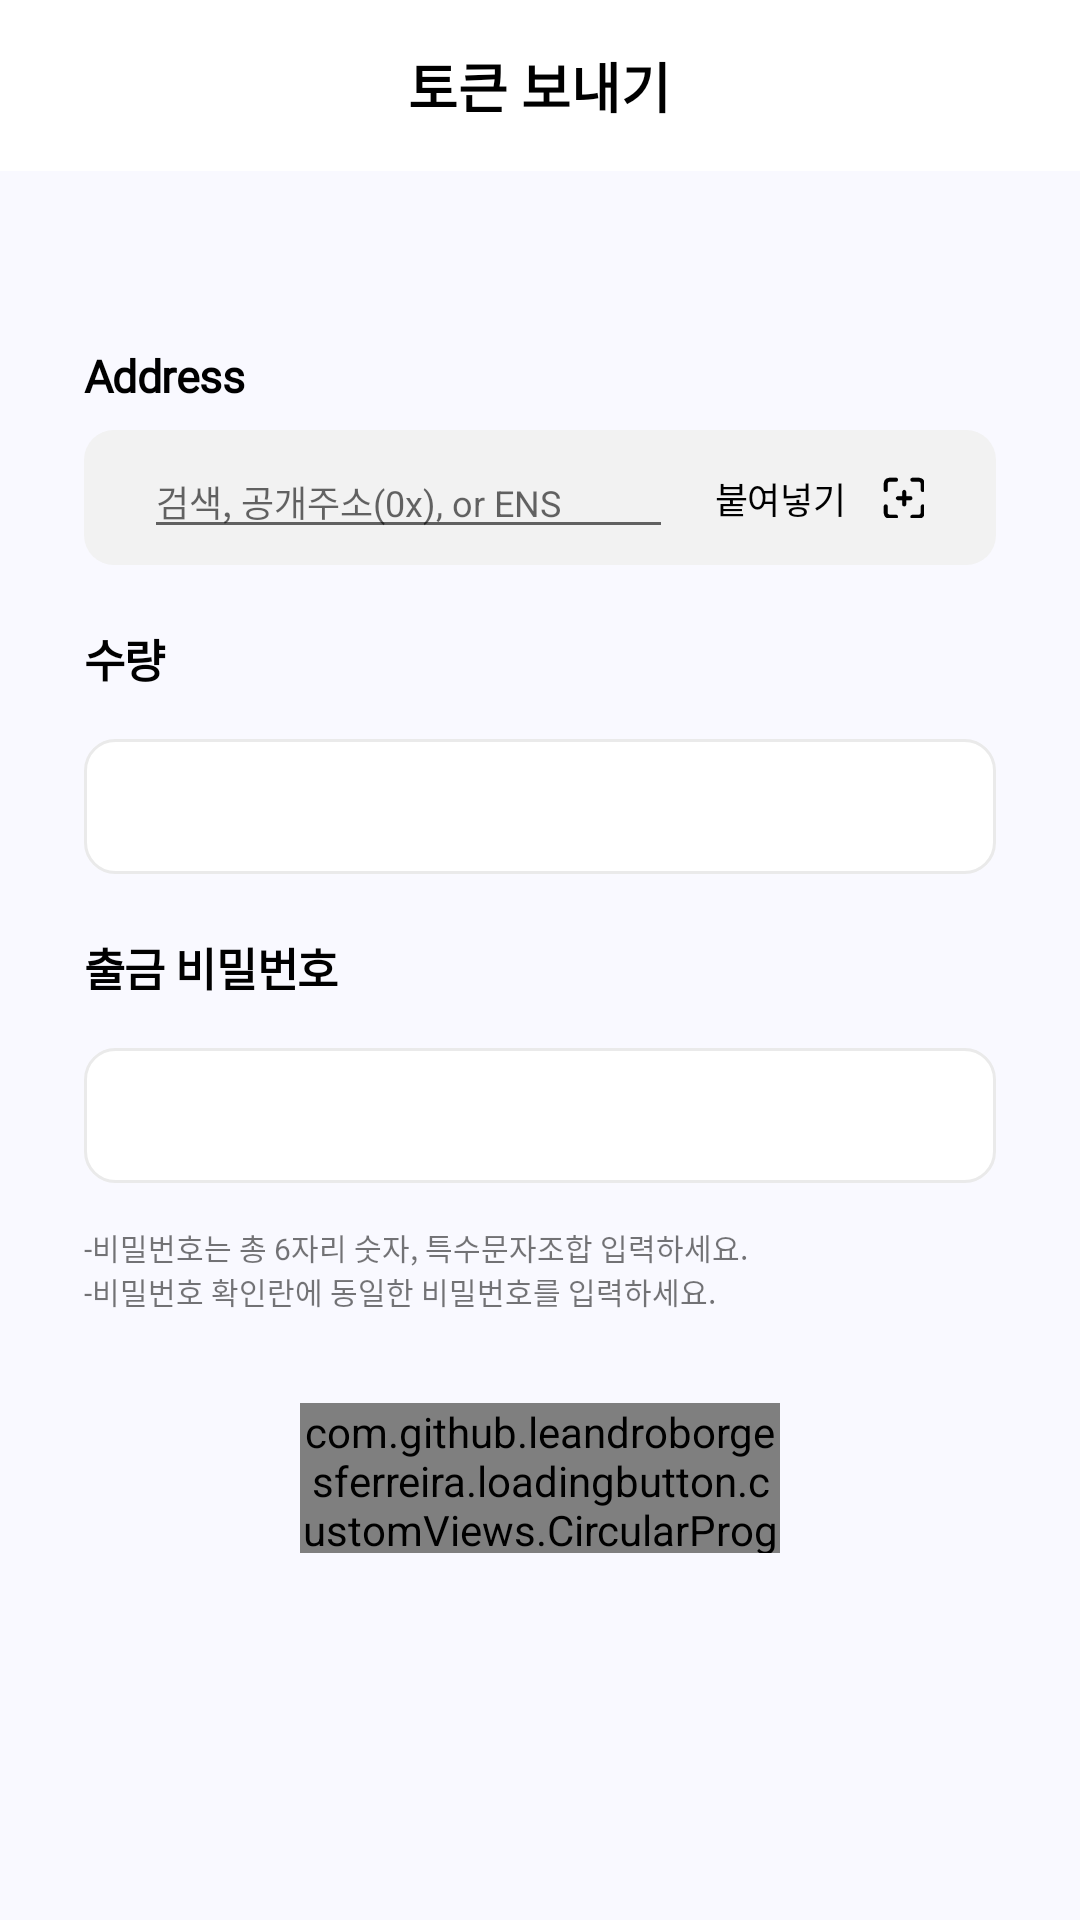

Icon bounding boxes for this 1080 × 1920 phone screenshot, format (x1, y1, x2, y2):
plus: (883, 477, 924, 518)
